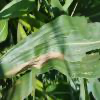Corn leaf blight: (0, 18, 99, 75)
